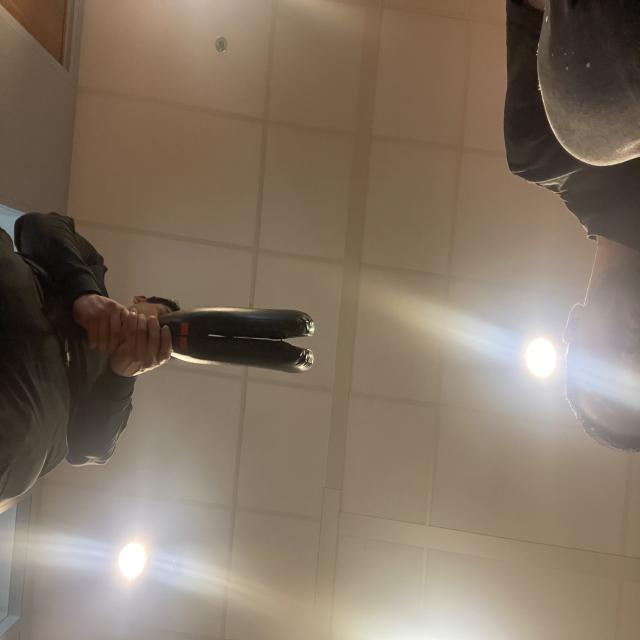paddle: (172, 300, 318, 374)
